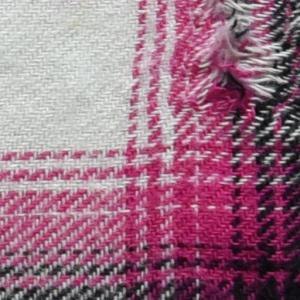Damage: (165, 1, 300, 137)
